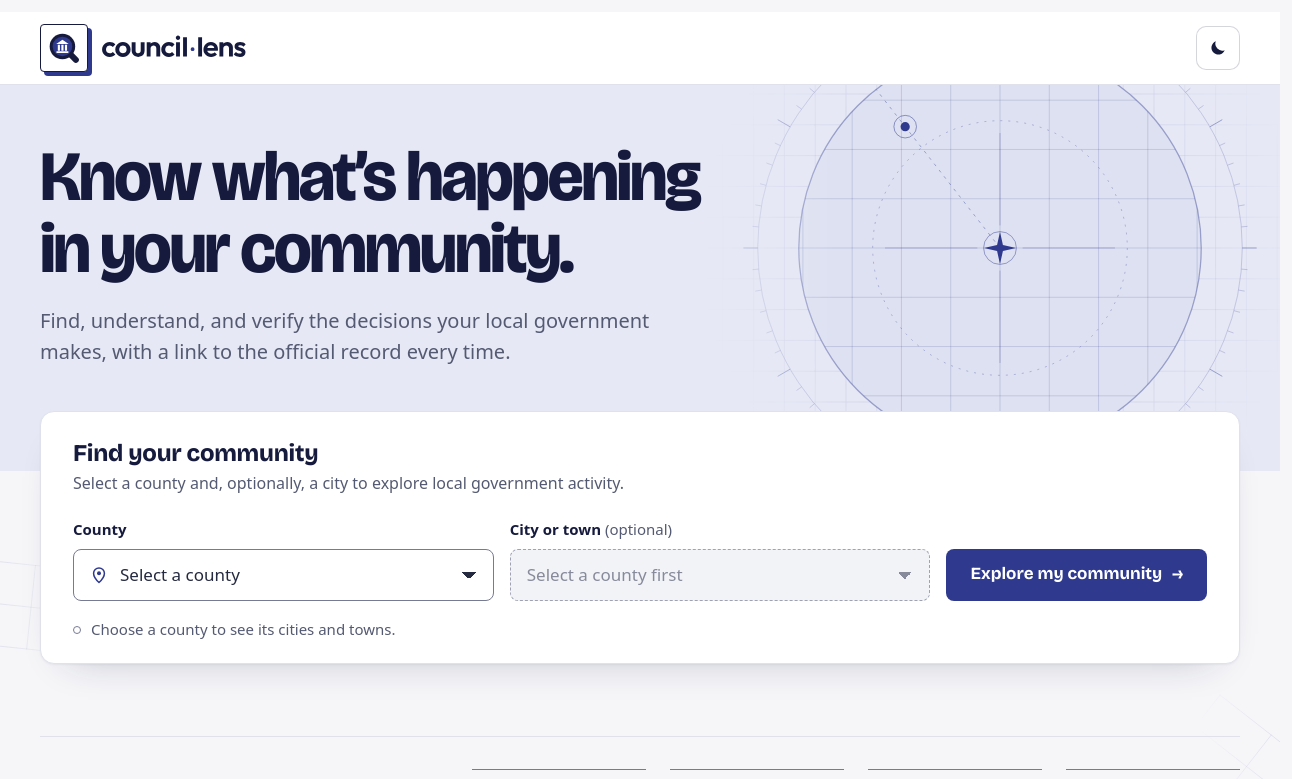
Test: Location chooser › asks for a county instead of guessing one
The image size is (1292, 779).
Step 1. Click the button "Explore my community →" → click(1077, 575), box [946,549,1207,601]
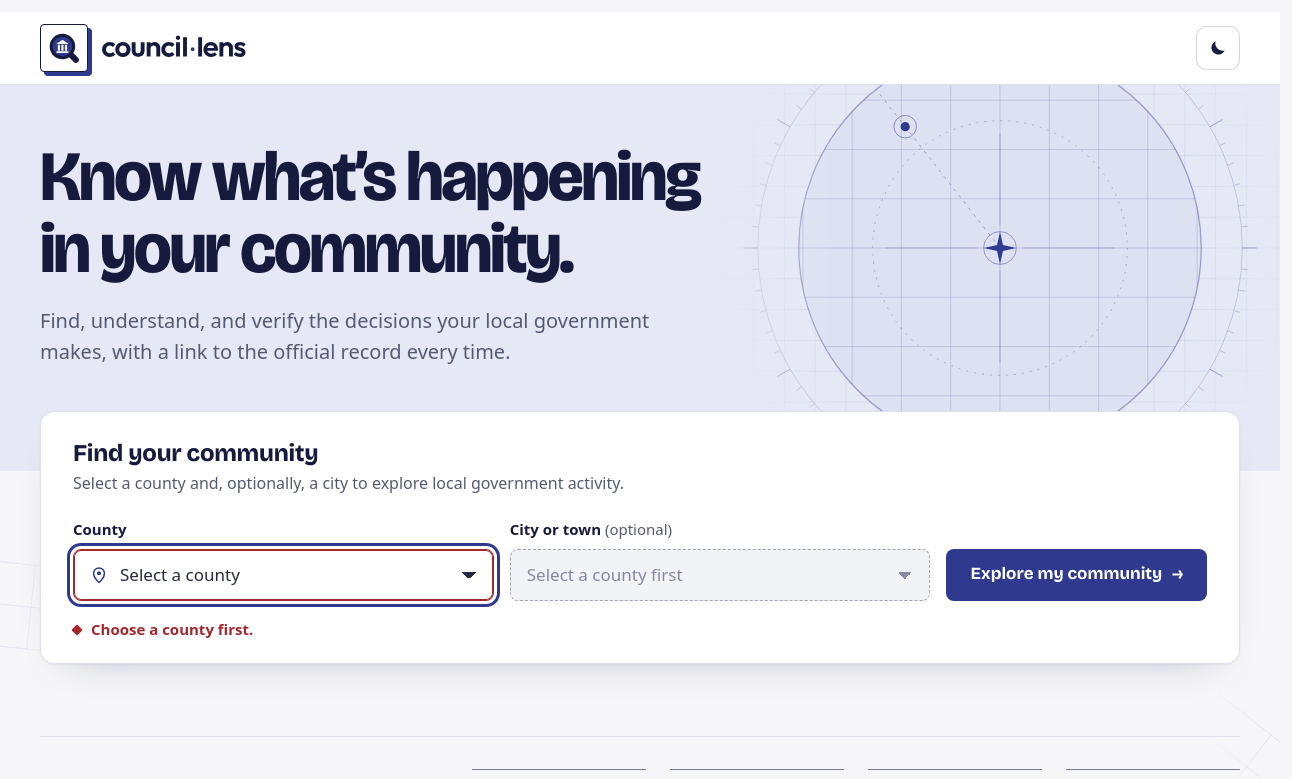
Now the message reads "Choose a county first.", box [91,619,253,639]
